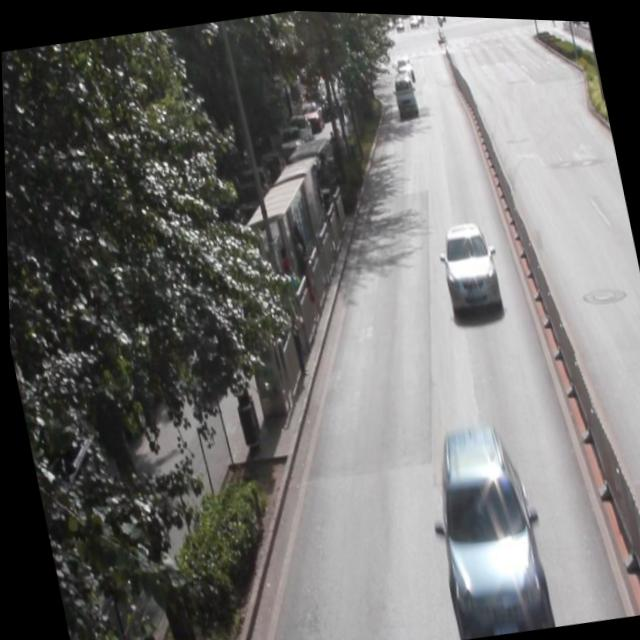car: (417, 411, 549, 639), (433, 216, 499, 308)
